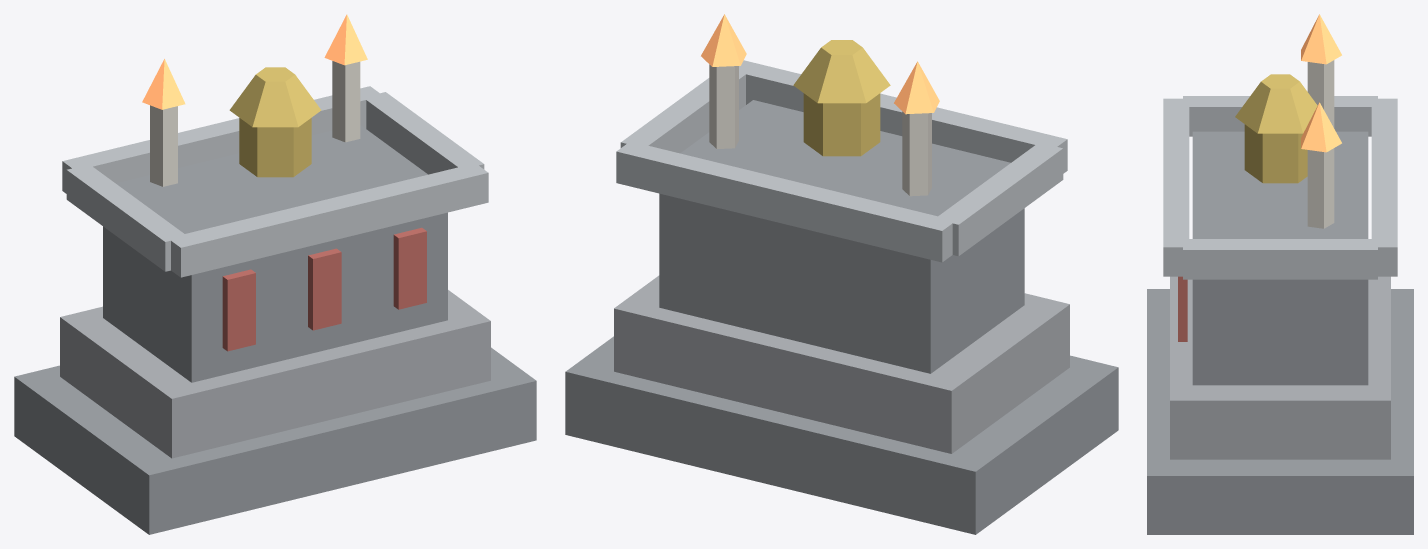
File: blood_altar.glb
3 renders of one model, left to right at view 1: azimuth 30°, elevation 25°; view 2: azimuth 150°, elevation 25°; view 3: azimuth 270°, elevation 25°, orthographic. The views are drawn at different scales.
Parts seen in each view (by area): view 1: table, base, step, rim_0.002, rim_1.002, rim_0.001, rim_1.001, bowl, chalice, rune_0, rune_1, rune_2 (+4 smaller); view 2: table, base, step, rim_1.002, rim_0.002, rim_0.001, bowl, chalice, rim_1.001, candle_0, candle_1, flame_0.001 (+1 smaller); view 3: table, base, step, rim_1.001, rim_1.002, rim_0.002, bowl, rim_0.001, chalice, candle_1, candle_0, flame_1.001 (+2 smaller).
Part boxes in pixels (box(x1,y1,x2,y2)): table: box(103, 125, 447, 382); base: box(14, 347, 536, 534); step: box(60, 290, 490, 458); rim_0.002: box(168, 165, 488, 277); rim_1.002: box(62, 86, 381, 193); rim_0.001: box(66, 164, 187, 271); rim_1.001: box(365, 92, 484, 174); bowl: box(229, 67, 321, 127); chalice: box(239, 118, 311, 177); rune_0: box(222, 269, 255, 351); rune_1: box(308, 248, 341, 330); rune_2: box(393, 227, 426, 309); table: box(659, 100, 1024, 373); base: box(565, 336, 1118, 534); step: box(614, 275, 1069, 453); rim_1.002: box(616, 144, 953, 262); rim_0.002: box(739, 60, 1067, 173); rim_0.001: box(935, 145, 1063, 256); bowl: box(793, 40, 890, 103); chalice: box(803, 93, 880, 156); rim_1.001: box(620, 69, 748, 153); candle_0: box(902, 111, 931, 196); candle_1: box(709, 64, 738, 148); flame_0.001: box(894, 61, 939, 114); table: box(1192, 131, 1368, 385); base: box(1147, 289, 1413, 534); step: box(1170, 276, 1390, 459); rim_1.001: box(1183, 239, 1377, 279); rim_1.002: box(1371, 98, 1397, 276); rim_0.002: box(1163, 98, 1189, 276); bowl: box(1235, 74, 1317, 133); rim_0.001: box(1183, 96, 1377, 136); chalice: box(1244, 124, 1307, 183); candle_1: box(1307, 148, 1334, 228); candle_0: box(1307, 60, 1334, 128); flame_1.001: box(1301, 102, 1341, 152).
Bounding box in the file's own units: 1.36 × 1.3 × 0.82.
